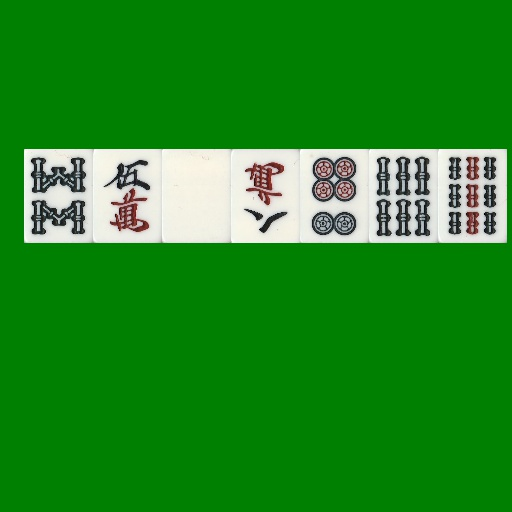5m: (93, 149, 162, 243)
6p: (300, 149, 369, 243)
6s: (369, 149, 438, 243)
8m: (231, 149, 300, 243)
8s: (24, 149, 93, 243)
9s: (438, 149, 507, 243)
white: (162, 149, 231, 243)
